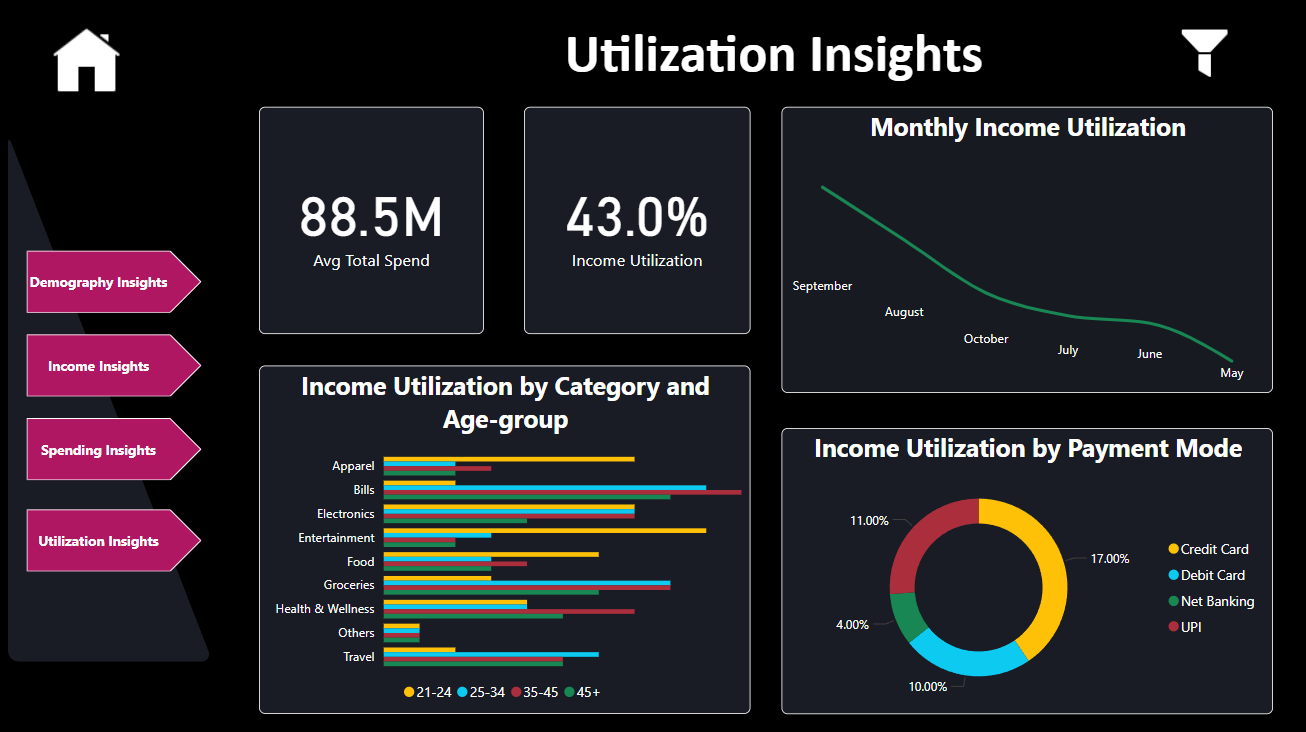

The dashboard page shown, as its layout file describes it:
{"tool":"powerbi","page":{"name":"Utilization Insights","canvas":[1280,720],"ordinal":4},"visuals":[{"type":"shape","box":[8.6,132.1,200.5,517.3],"z":0,"group":"g1"},{"type":"donutChart","title":"Income Utilization by Payment Mode","fields":{"Category":["fact_spends.payment_type"],"Y":["dim_customers.Income Utilization"]},"box":[765.5,420.7,480.6,280],"z":0},{"type":"stackedAreaChart","title":"Monthly Income Utilization","fields":{"Category":["fact_spends.month"],"Y":["dim_customers.Income Utilization"]},"box":[765.5,106.4,480.6,280],"z":1000},{"type":"shape","box":[26.9,500.2,171.2,61.1],"z":1000,"group":"g1"},{"type":"group","id":"g1","title":"Nav Panel","box":[8.6,132.1,200.5,517.3],"z":2000},{"type":"shape","box":[26.9,410.9,171.2,61.1],"z":2000,"group":"g1"},{"type":"shape","box":[552.7,14.7,410.9,77],"z":3000},{"type":"shape","box":[26.9,329,171.2,61.1],"z":3000,"group":"g1"},{"type":"image","box":[1149.5,23.2,59.9,61.1],"z":4000},{"type":"shape","box":[26.9,247,171.2,61.1],"z":4000,"group":"g1"},{"type":"card","fields":{"Values":["dim_customers.Avg Total Spend"]},"box":[254.3,106.4,220.1,222.6],"z":6000},{"type":"card","fields":{"Values":["dim_customers.Income Utilization"]},"box":[513.6,106.4,221.3,222.6],"z":7000},{"type":"clusteredBarChart","title":"Income Utilization by Category and Age-group","fields":{"Category":["fact_spends.category"],"Y":["dim_customers.Income Utilization"],"Series":["dim_customers.age_group"]},"box":[254.3,359.5,480.6,341.2],"z":8000},{"type":"image","box":[47.7,23.2,75.8,77],"z":9000}]}

Visuals, with their boxes in screenshot pixels (x1, y1, x2, y2), scaled from the page's 1280x720 canvas onto the 1306x732 screenshot:
shape: <bbox>9, 134, 213, 660</bbox>
"Income Utilization by Payment Mode" donutChart: <bbox>781, 428, 1271, 712</bbox>
"Monthly Income Utilization" stackedAreaChart: <bbox>781, 108, 1271, 393</bbox>
shape: <bbox>27, 509, 202, 571</bbox>
"Nav Panel" group: <bbox>9, 134, 213, 660</bbox>
shape: <bbox>27, 418, 202, 480</bbox>
shape: <bbox>564, 15, 983, 93</bbox>
shape: <bbox>27, 334, 202, 397</bbox>
image: <bbox>1173, 24, 1234, 86</bbox>
shape: <bbox>27, 251, 202, 313</bbox>
card - dim_customers.Avg Total Spend: <bbox>259, 108, 484, 334</bbox>
card - dim_customers.Income Utilization: <bbox>524, 108, 750, 334</bbox>
"Income Utilization by Category and Age-group" clusteredBarChart: <bbox>259, 365, 750, 712</bbox>
image: <bbox>49, 24, 126, 102</bbox>
